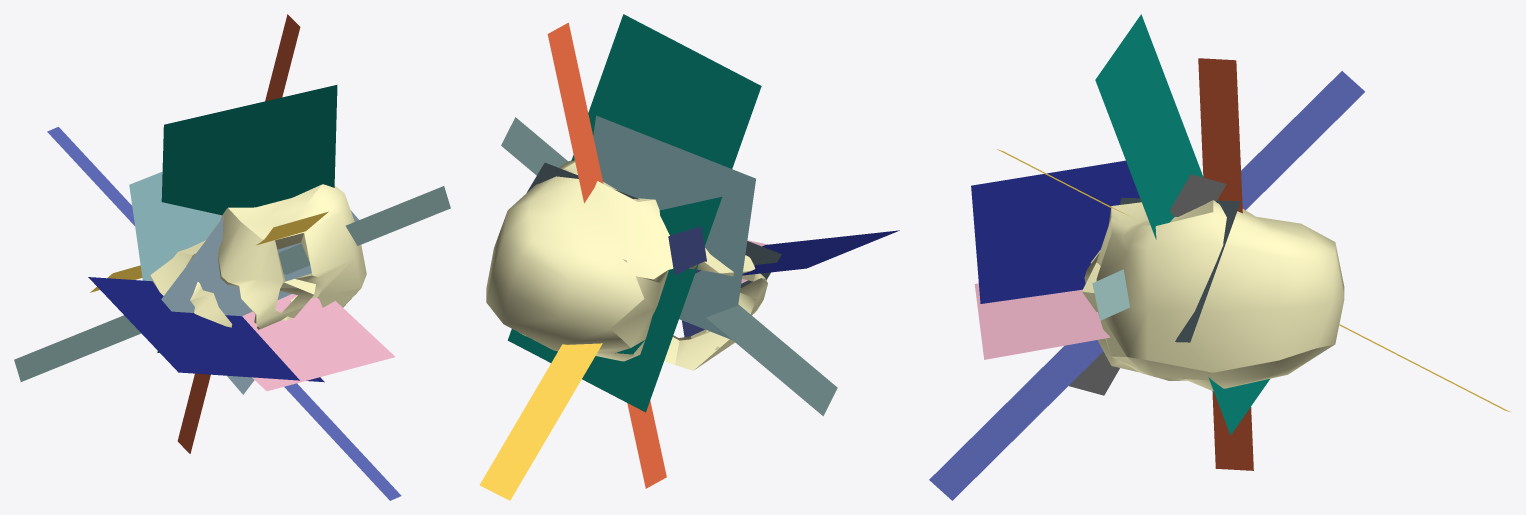
File: skull6.glb
3 renders of one model, left to right at view 1: azimuth 30°, elevation 25°; view 2: azimuth 150°, elevation 25°; view 3: azimuth 270°, elevation 25°, orthographic. The views are drawn at different scales.
Parts seen in each view (by area): view 1: Plane.026, skull6, Plane.060, Plane.069, Plane.012, Plane.019, Plane.079, Plane.040, Plane.003, Plane.042; view 2: skull6, Plane.026, Plane.019, Plane.012, Plane.042, Plane.003, Plane.060, Plane.040, Plane.079; view 3: skull6, Plane.060, Plane.026, Plane.040, Plane.003, Plane.069, Plane.033, Plane.012, Plane.079, Plane.042.
Part boxes in pixels (<box>): Plane.026: <box>157,85,337,352</box>; skull6: <box>150,184,366,329</box>; Plane.060: <box>88,277,324,382</box>; Plane.069: <box>242,294,394,391</box>; Plane.012: <box>14,186,450,381</box>; Plane.019: <box>129,171,221,281</box>; Plane.079: <box>161,211,358,394</box>; Plane.040: <box>47,127,401,500</box>; Plane.003: <box>177,14,300,453</box>; Plane.042: <box>90,211,328,292</box>; skull6: <box>486,160,767,370</box>; Plane.026: <box>507,14,761,412</box>; Plane.019: <box>593,115,755,339</box>; Plane.012: <box>501,117,837,416</box>; Plane.042: <box>479,343,602,500</box>; Plane.003: <box>547,22,666,488</box>; Plane.060: <box>742,230,899,275</box>; Plane.040: <box>668,226,706,337</box>; Plane.079: <box>527,162,781,287</box>; skull6: <box>1082,200,1344,391</box>; Plane.060: <box>971,160,1139,303</box>; Plane.026: <box>1095,14,1269,435</box>; Plane.040: <box>929,71,1364,500</box>; Plane.003: <box>1198,58,1253,470</box>; Plane.069: <box>974,283,1110,359</box>; Plane.033: <box>1069,174,1226,395</box>; Plane.012: <box>1092,269,1129,320</box>; Plane.079: <box>1119,197,1240,342</box>; Plane.042: <box>996,149,1510,412</box>.
Size of what is drawn, in the model's own units: 13.38 by 13.69 by 15.46.
Materials: 1 (1 with a texture image).
